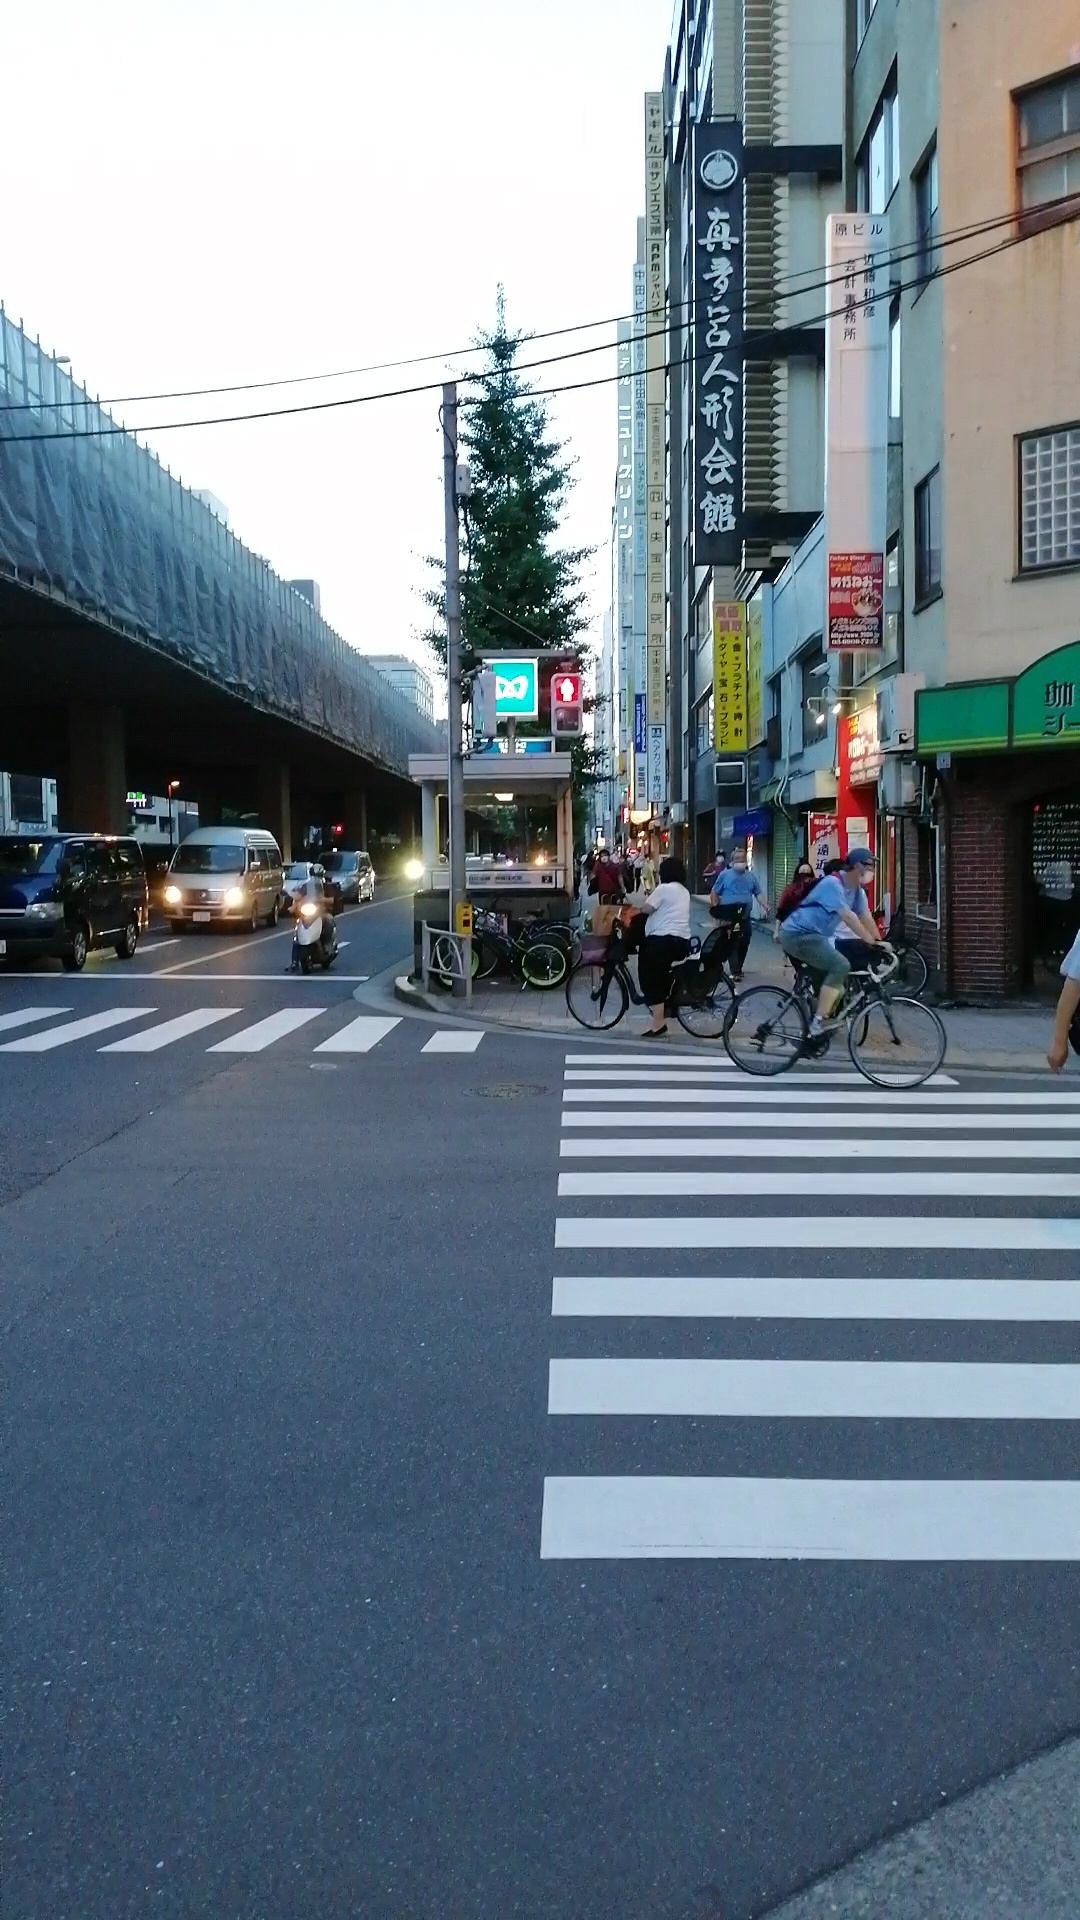red: (549, 673, 583, 736)
